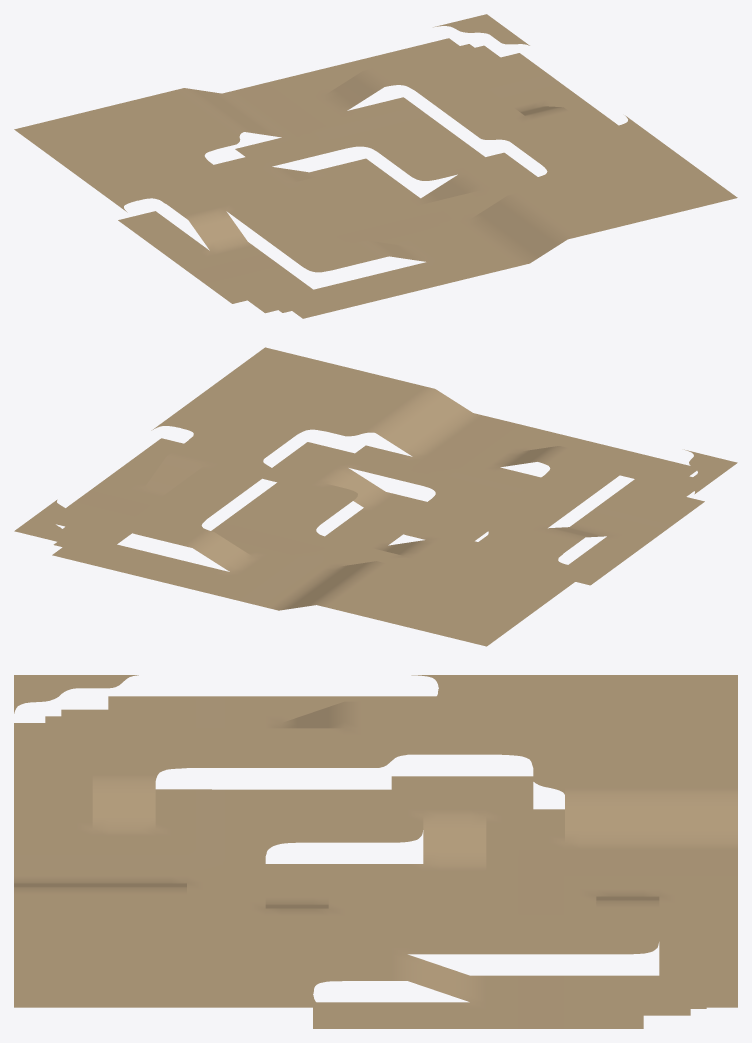
The model's file is map_layout.fbx.
The picture shows the model from 3 angles, top to bottom: view 1: azimuth 30°, elevation 25°; view 2: azimuth 150°, elevation 25°; view 3: azimuth 270°, elevation 25°; orthographic projection. The views are drawn at different scales.
Visible parts, largest first — view 1: layout; view 2: layout; view 3: layout.
Part boxes in pixels (box(x1,y1,x2,y2)): layout: box(14, 14, 737, 318); layout: box(14, 347, 737, 646); layout: box(14, 675, 737, 1028).
Size of the model in its own units: 5000 by 300 by 4600.
